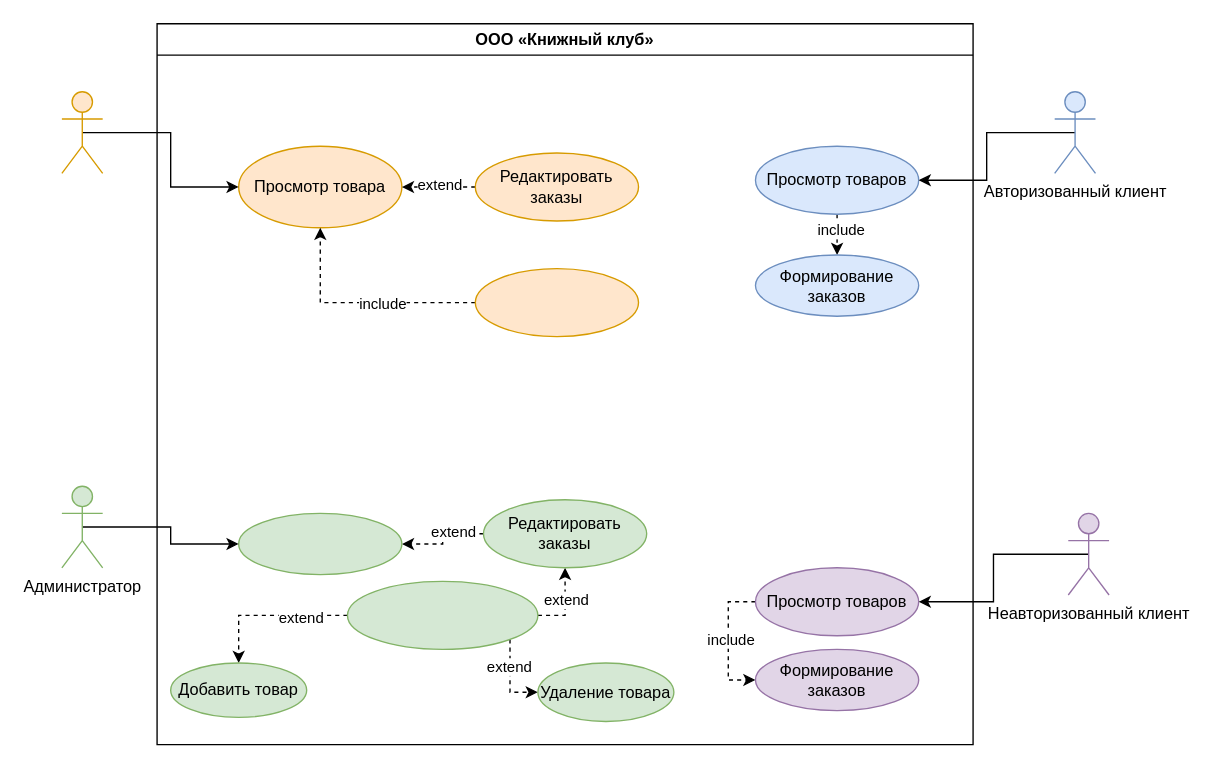
Some shapes in this 1213 by 768 pixel diagram are drawn without their labels. Here are the shapes that lost their labels. From the top down, the box of each, then its label:
(61, 90, 103, 173): Менеджер
(474, 267, 639, 337): Формировать заказ
(237, 512, 402, 575): Просмотр заказа
(346, 580, 538, 649): Добавлять/Редактировать/Удалять товары
